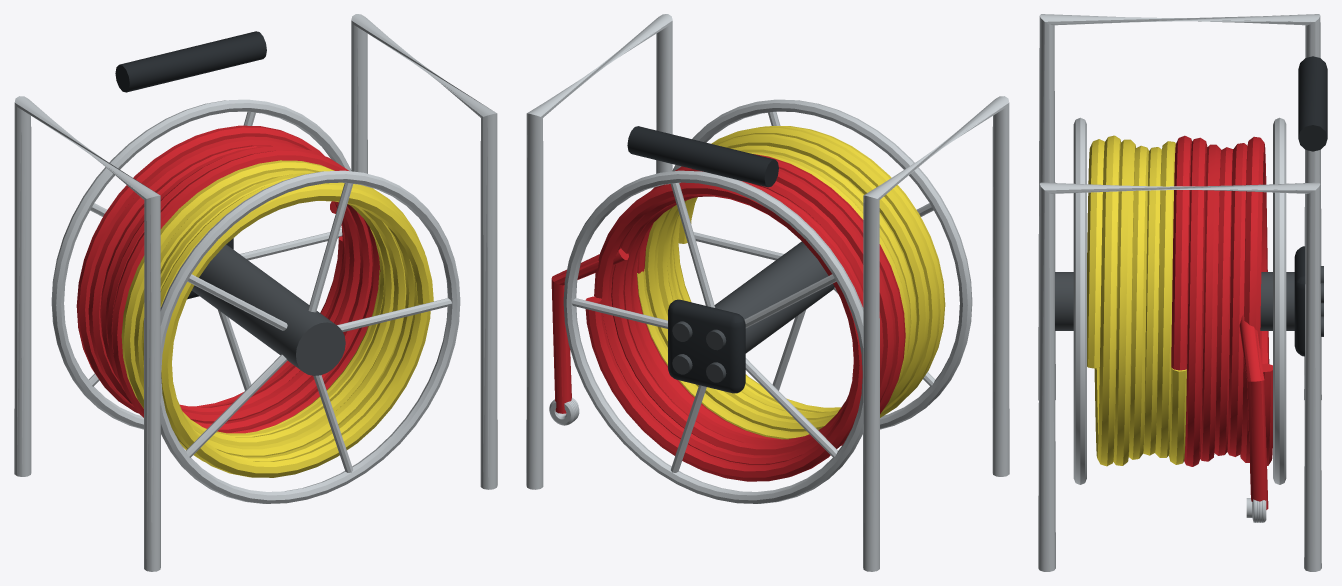
The model's file is hydraulic_hose_pair.glb.
The picture shows the model from 3 angles, left to right: view 1: azimuth 30°, elevation 25°; view 2: azimuth 150°, elevation 25°; view 3: azimuth 270°, elevation 25°; orthographic projection. The views are drawn at different scales.
Visible parts, largest first — view 1: hydraulic_hose_pair; view 2: hydraulic_hose_pair; view 3: hydraulic_hose_pair.
Boxes of the visible parts, <box> form: hydraulic_hose_pair: <box>14,14,497,571</box>; hydraulic_hose_pair: <box>526,14,1009,571</box>; hydraulic_hose_pair: <box>1038,14,1327,571</box>.
Bounding box in the file's own units: 0.3743 × 0.3876 × 0.2584.
